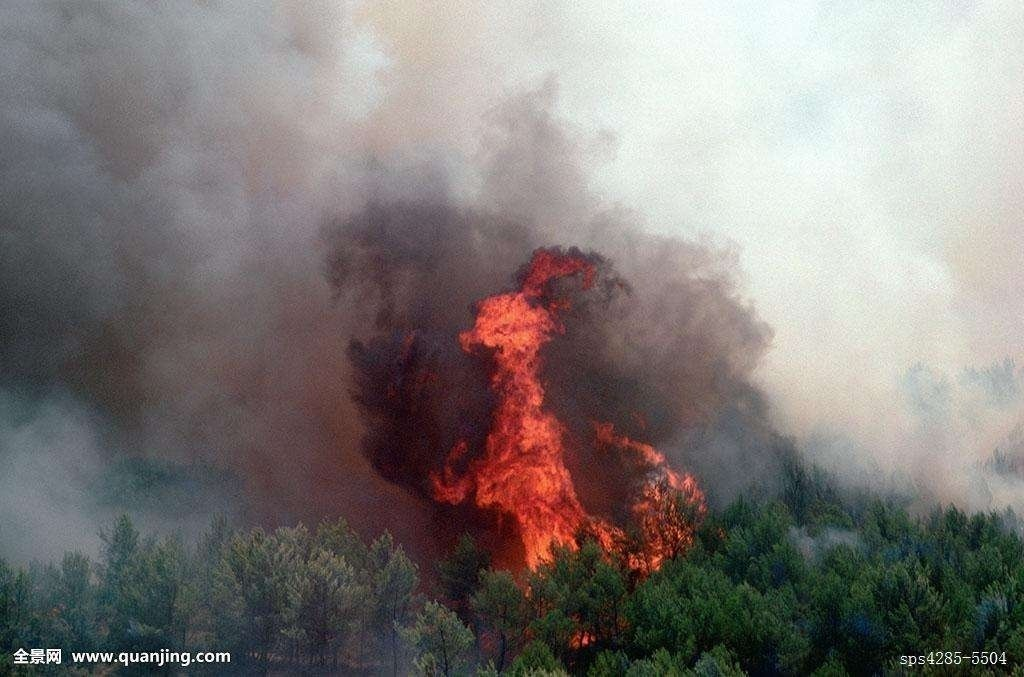fire: (429, 246, 715, 582)
